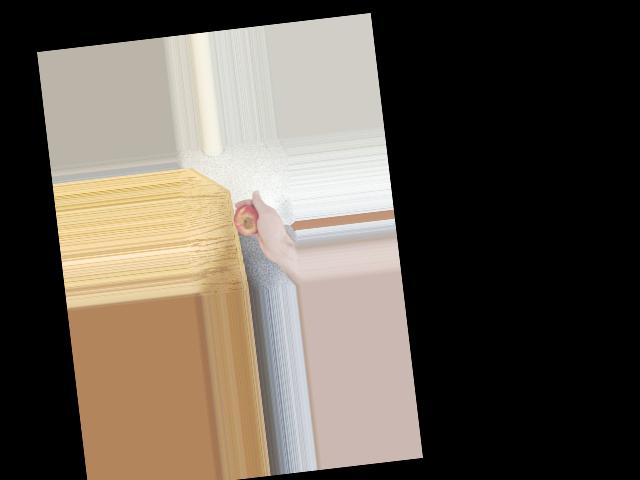apple: (231, 201, 265, 244)
